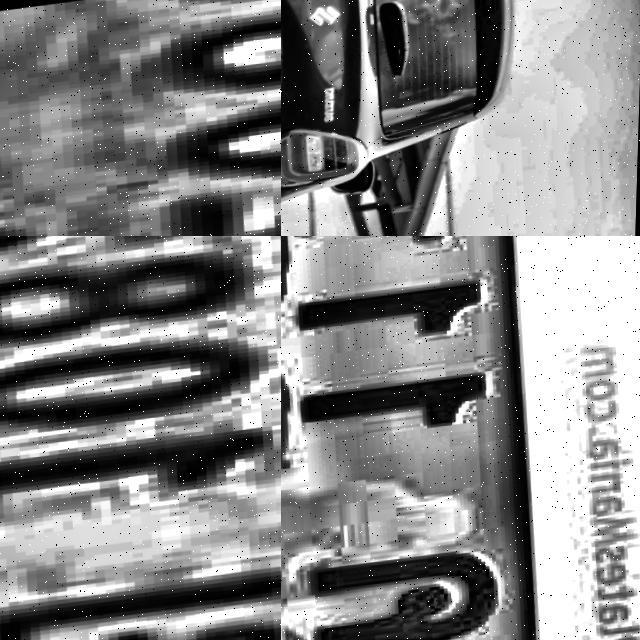license-plate: (281, 236, 583, 640), (0, 236, 281, 640), (0, 0, 281, 236)
